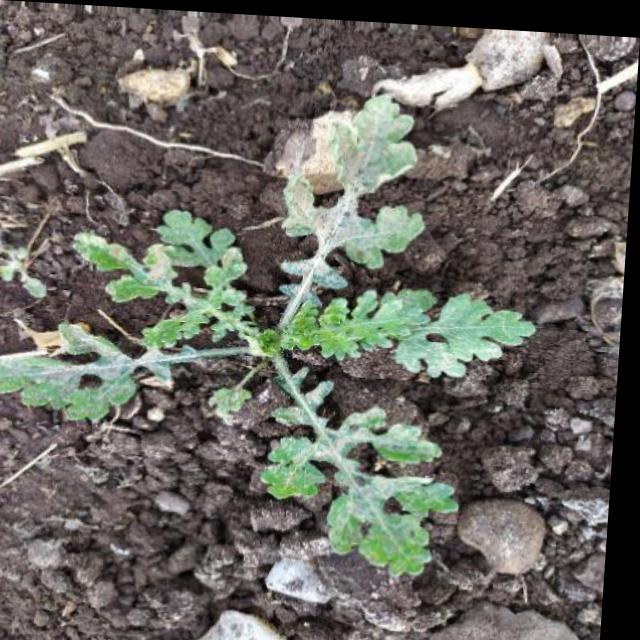weed: (0, 74, 558, 606)
